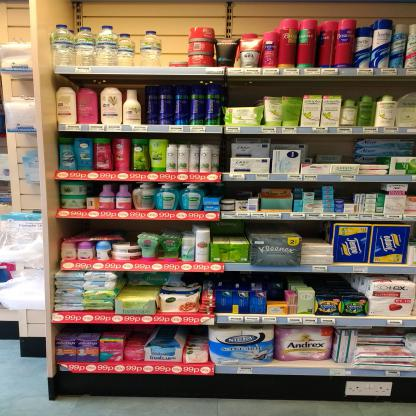Void: (62, 219, 136, 235), (226, 80, 259, 106), (310, 136, 351, 153), (304, 222, 330, 242), (255, 221, 296, 233), (312, 276, 349, 288), (263, 272, 282, 294)
